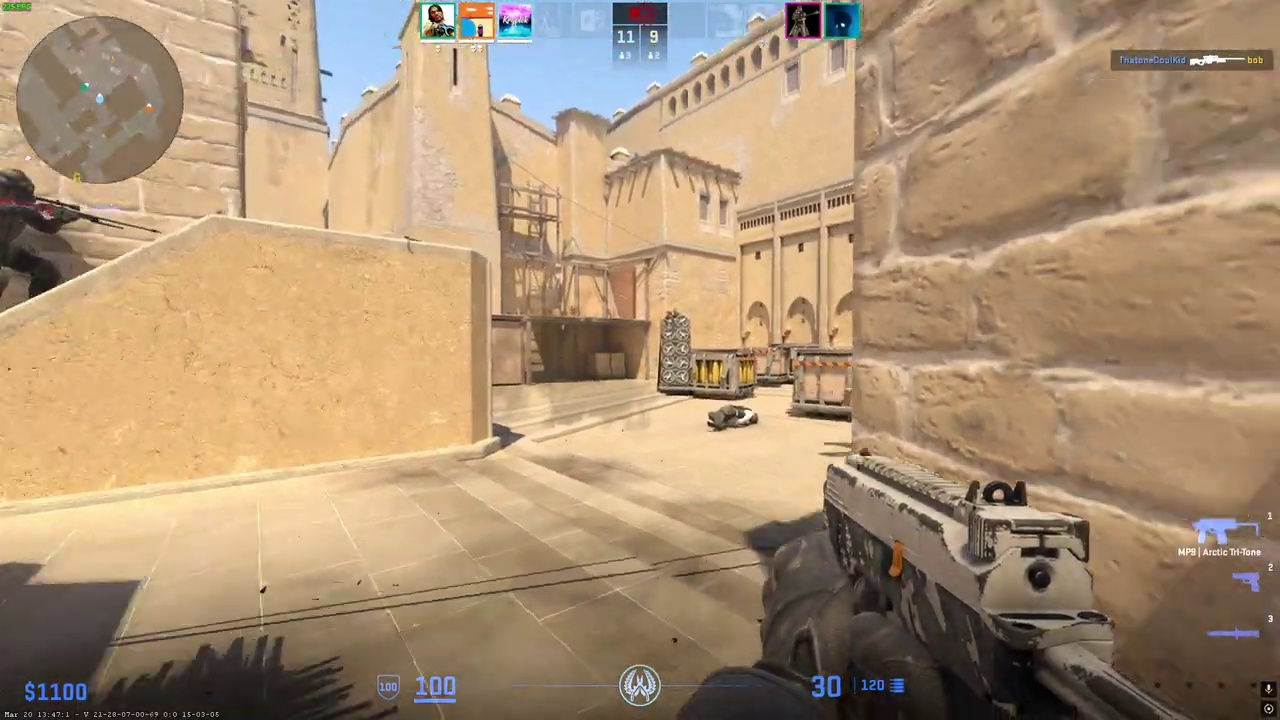CT: (0, 168, 63, 312)
